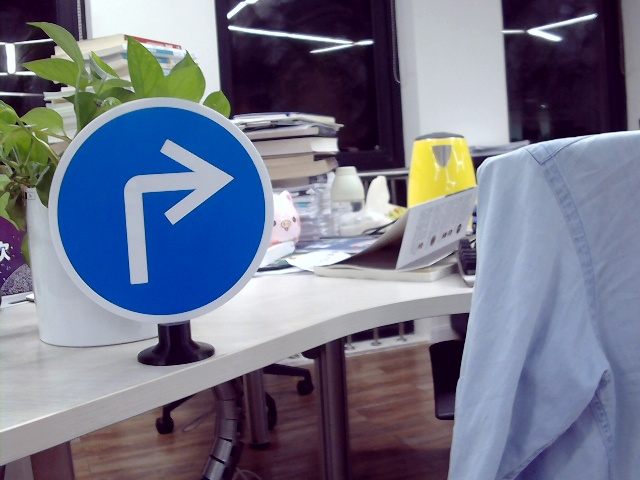turn_right: (113, 137, 239, 290)
